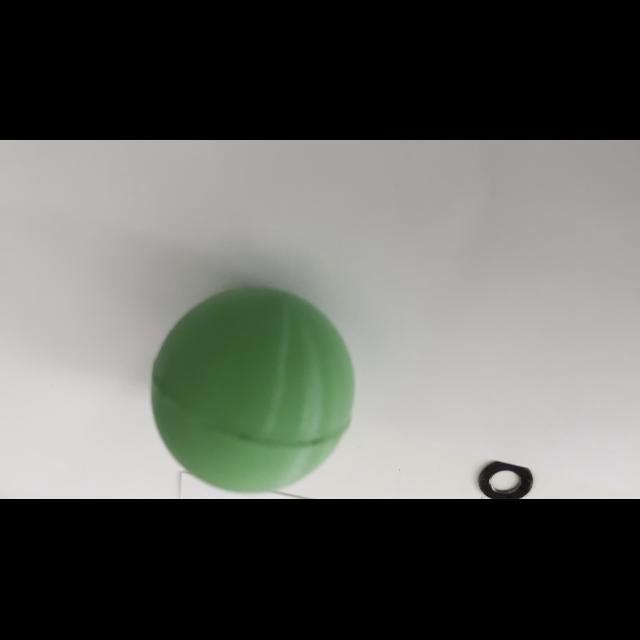objects: (146, 280, 358, 494)
